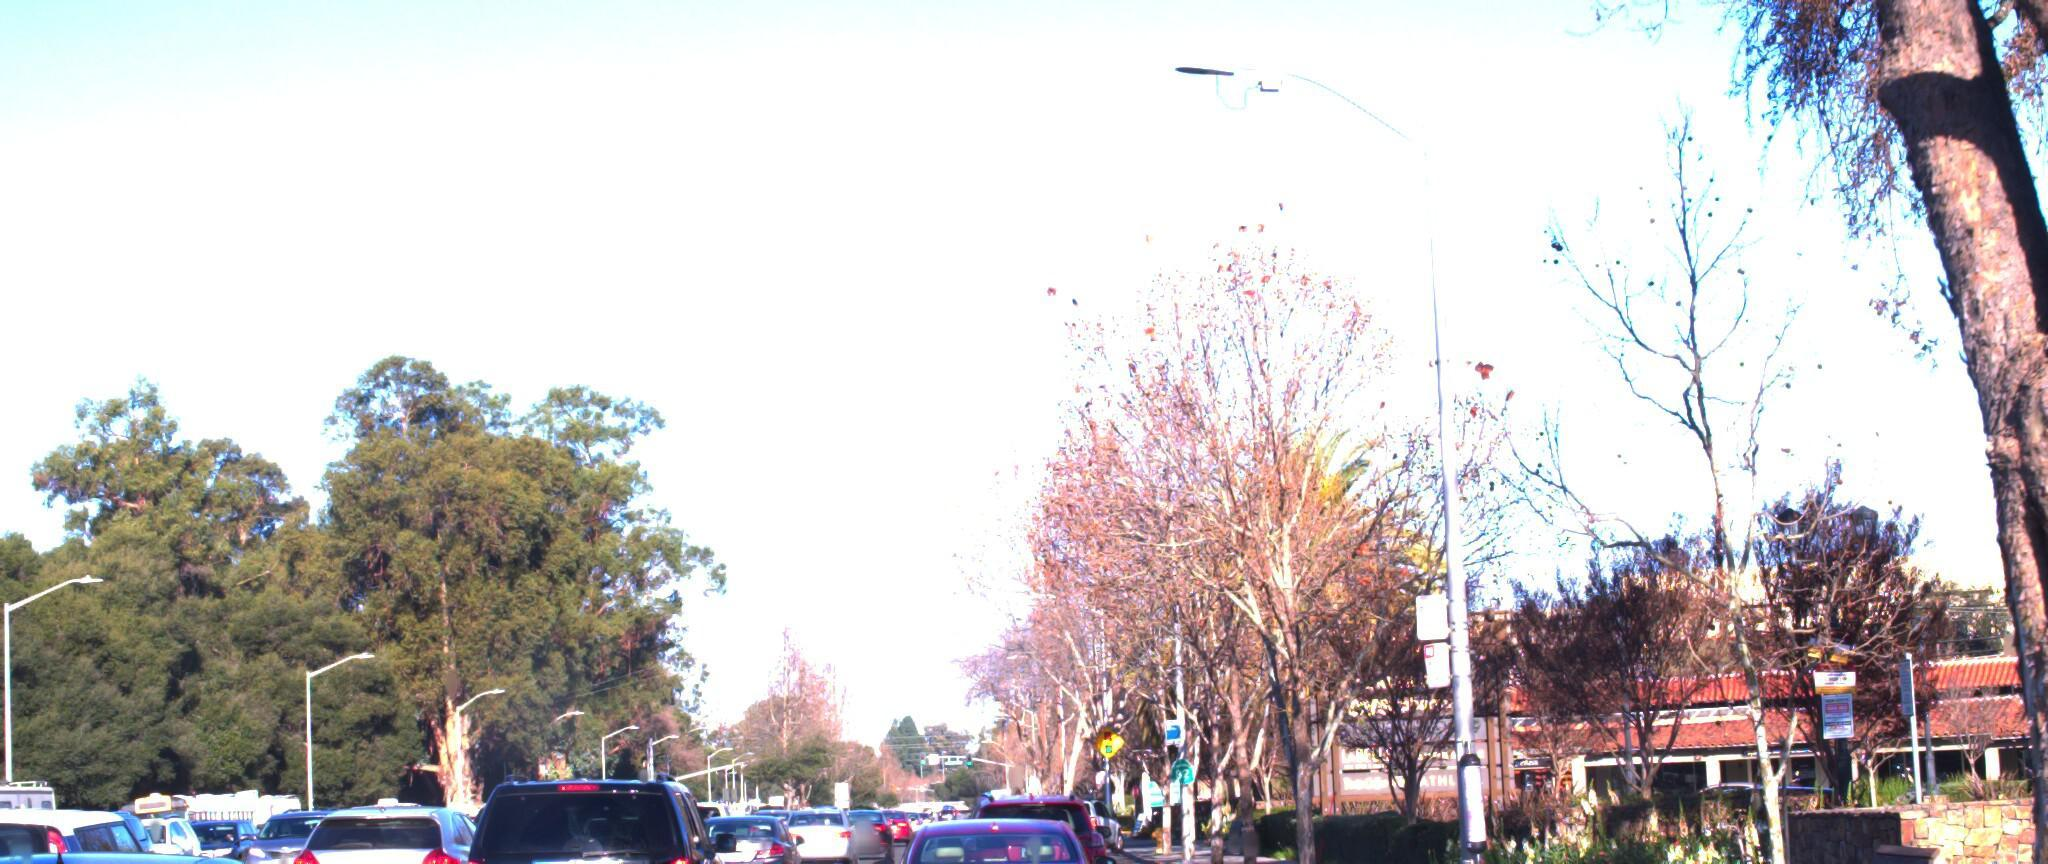car: (451, 730, 739, 864), (0, 809, 419, 864), (299, 770, 522, 864), (0, 777, 219, 864), (876, 790, 1126, 864), (953, 766, 1108, 864), (88, 786, 221, 864), (684, 787, 810, 864), (778, 782, 859, 850)
other_vehicle: (0, 744, 80, 864)
